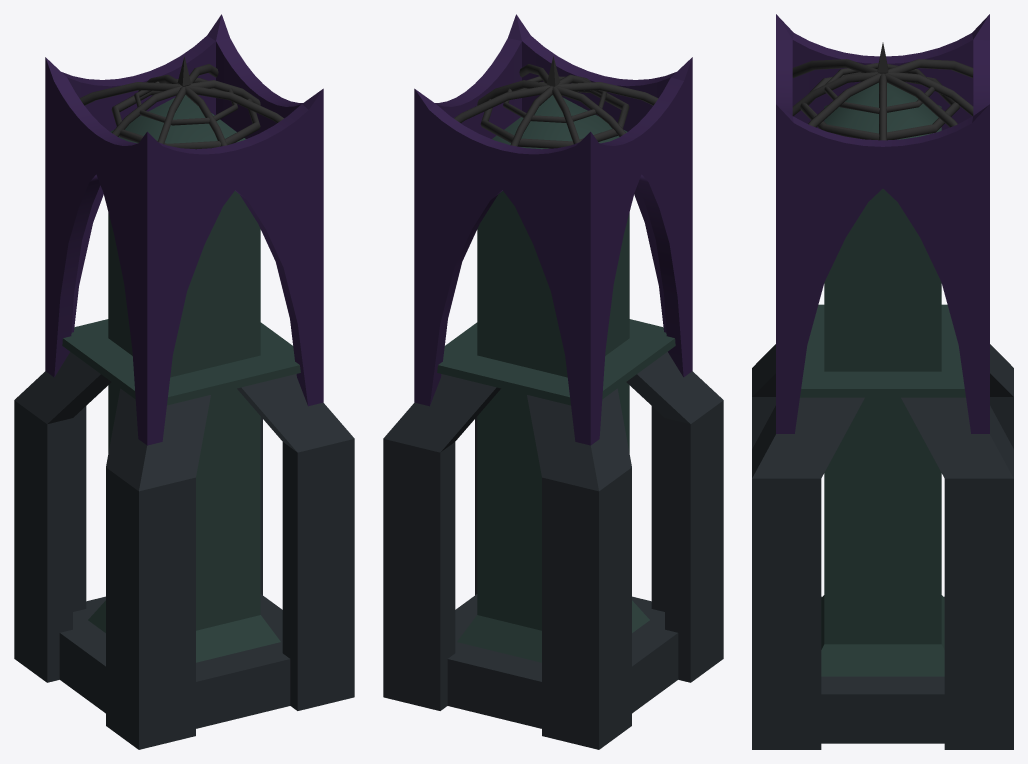
The model's file is Nigromante.fbx.
3 renders of one model, left to right at view 1: azimuth 30°, elevation 25°; view 2: azimuth 150°, elevation 25°; view 3: azimuth 270°, elevation 25°, orthographic. The views are drawn at different scales.
Parts seen in each view (by area): view 1: pCube37; view 2: pCube37; view 3: pCube37.
Part boxes in pixels (x1,y1,x2,y2): pCube37: (14, 14, 354, 749); pCube37: (383, 14, 723, 749); pCube37: (752, 14, 1013, 749).
Size of the model in its own units: 3.51 by 9.66 by 3.51.
